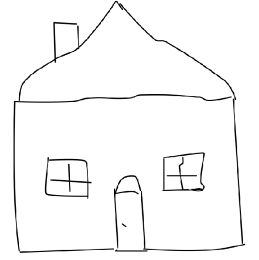big_house: (0, 0, 255, 259)
chimney: (42, 13, 89, 69)
closed_window: (156, 147, 215, 201), (38, 152, 96, 205)
door: (107, 174, 151, 256)
roof: (5, 0, 244, 112)
wall: (8, 94, 248, 255)
